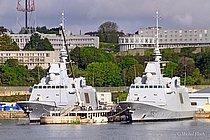MIL_Ship: (15, 7, 99, 124), (118, 10, 196, 124)
